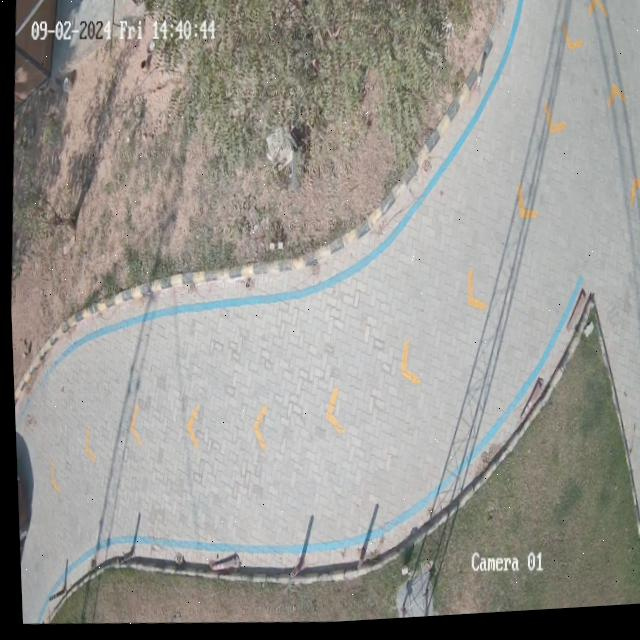car: (14, 471, 24, 560)
